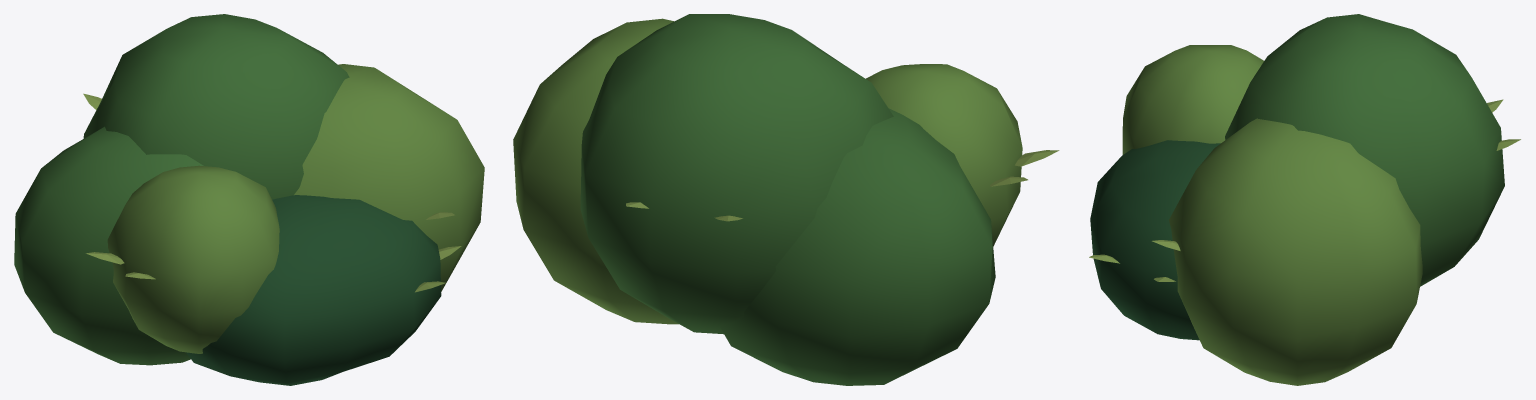
File: Plant_Forest_ShrubCluster_001.glb
3 renders of one model, left to right at view 1: azimuth 30°, elevation 25°; view 2: azimuth 150°, elevation 25°; view 3: azimuth 270°, elevation 25°, orthographic. The views are drawn at different scales.
Visible parts, largest first — view 1: FR_ShrubCluster_Body; view 2: FR_ShrubCluster_Body; view 3: FR_ShrubCluster_Body.
Part boxes in pixels (bbox=[...]): FR_ShrubCluster_Body: bbox=[14, 14, 484, 385]; FR_ShrubCluster_Body: bbox=[513, 14, 1059, 385]; FR_ShrubCluster_Body: bbox=[1089, 14, 1520, 385].
Bounding box in the file's own units: 2.1 × 1.42 × 1.84.
